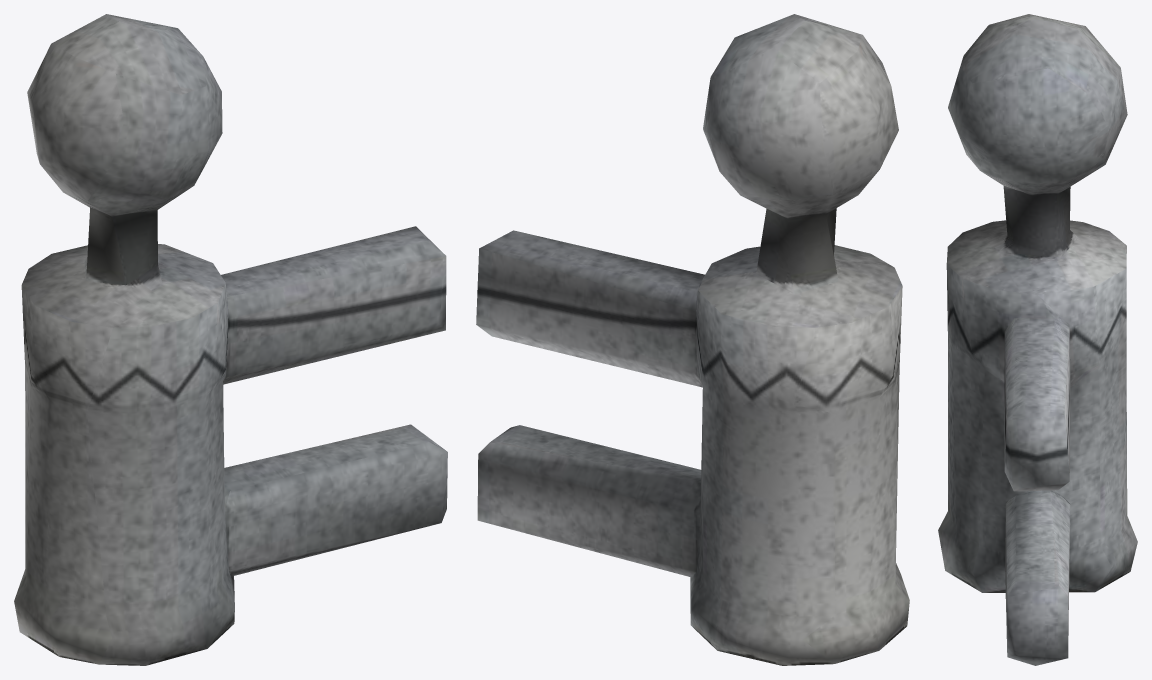
File: balustrade_end_w_far.glb
3 renders of one model, left to right at view 1: azimuth 30°, elevation 25°; view 2: azimuth 150°, elevation 25°; view 3: azimuth 270°, elevation 25°, orthographic. The views are drawn at different scales.
Parts seen in each view (by area): view 1: balustrade_end_w_lod1; view 2: balustrade_end_w_lod1; view 3: balustrade_end_w_lod1.
Boxes of the visible parts, box(x1,y1,x2,y2) form: balustrade_end_w_lod1: box(14, 14, 447, 665); balustrade_end_w_lod1: box(476, 14, 909, 665); balustrade_end_w_lod1: box(938, 14, 1137, 665).
Bounding box in the file's own units: 0.6342 × 0.8996 × 0.302.
1 material, 1 textured.
